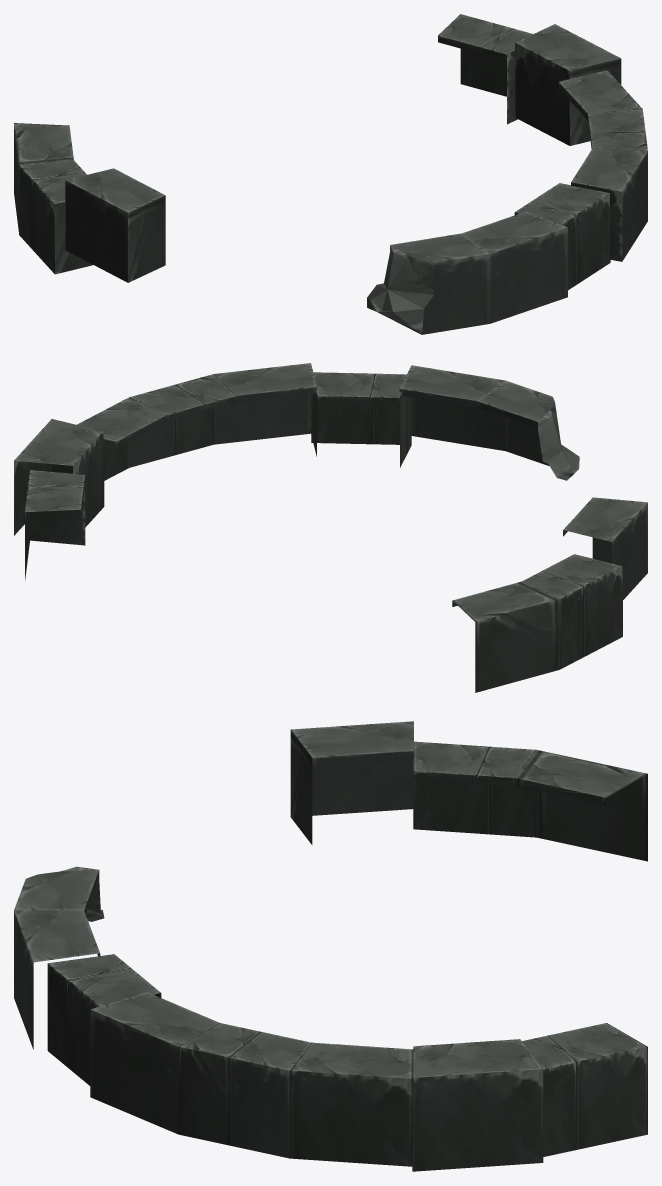
The model's file is sn_newshanlin_pingtaiwaiquan_001.FBX.
3 views of the same model, one above another, from view 1: azimuth 30°, elevation 25°; view 2: azimuth 150°, elevation 25°; view 3: azimuth 270°, elevation 25° (orthographic). The views are drawn at different scales.
Visible parts, largest first — view 1: sn_newshanlin_pingtaiwaiquan_001; view 2: sn_newshanlin_pingtaiwaiquan_001; view 3: sn_newshanlin_pingtaiwaiquan_001.
Boxes of the visible parts, left/top/right/bottom form: sn_newshanlin_pingtaiwaiquan_001: left=14, top=14, right=647, bottom=334; sn_newshanlin_pingtaiwaiquan_001: left=14, top=363, right=647, bottom=692; sn_newshanlin_pingtaiwaiquan_001: left=14, top=721, right=647, bottom=1171.
Bounding box in the file's own units: 115 × 89.17 × 18.49.
